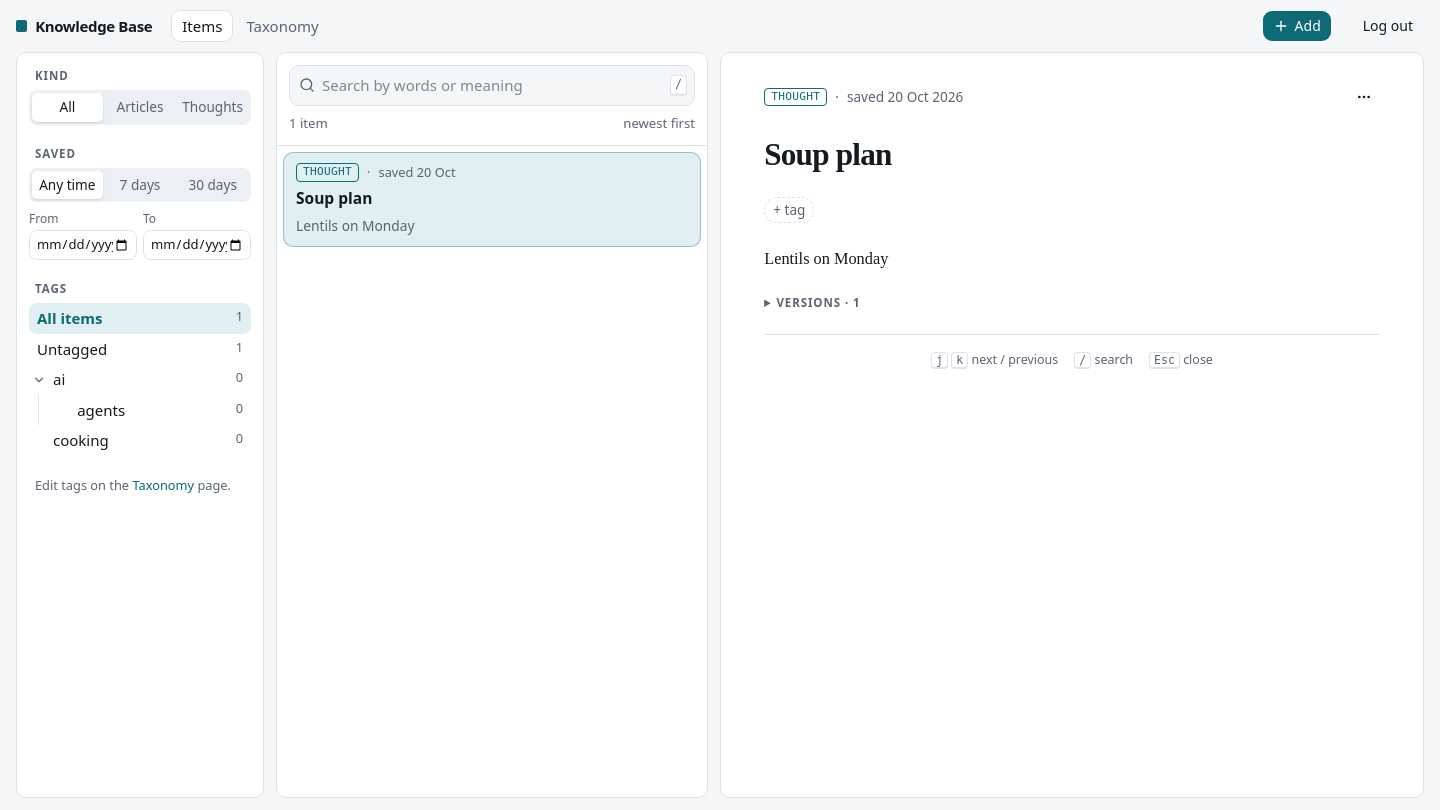
Test: Edit Thought starts from what is shown and saves a new version
The width and height of the screenshot is (1440, 810).
Expected: the element named "Selected item" is shown, [720, 52, 1424, 798]
Click the button named "More actions": coordinates (1364, 97) [1348, 81, 1380, 113]
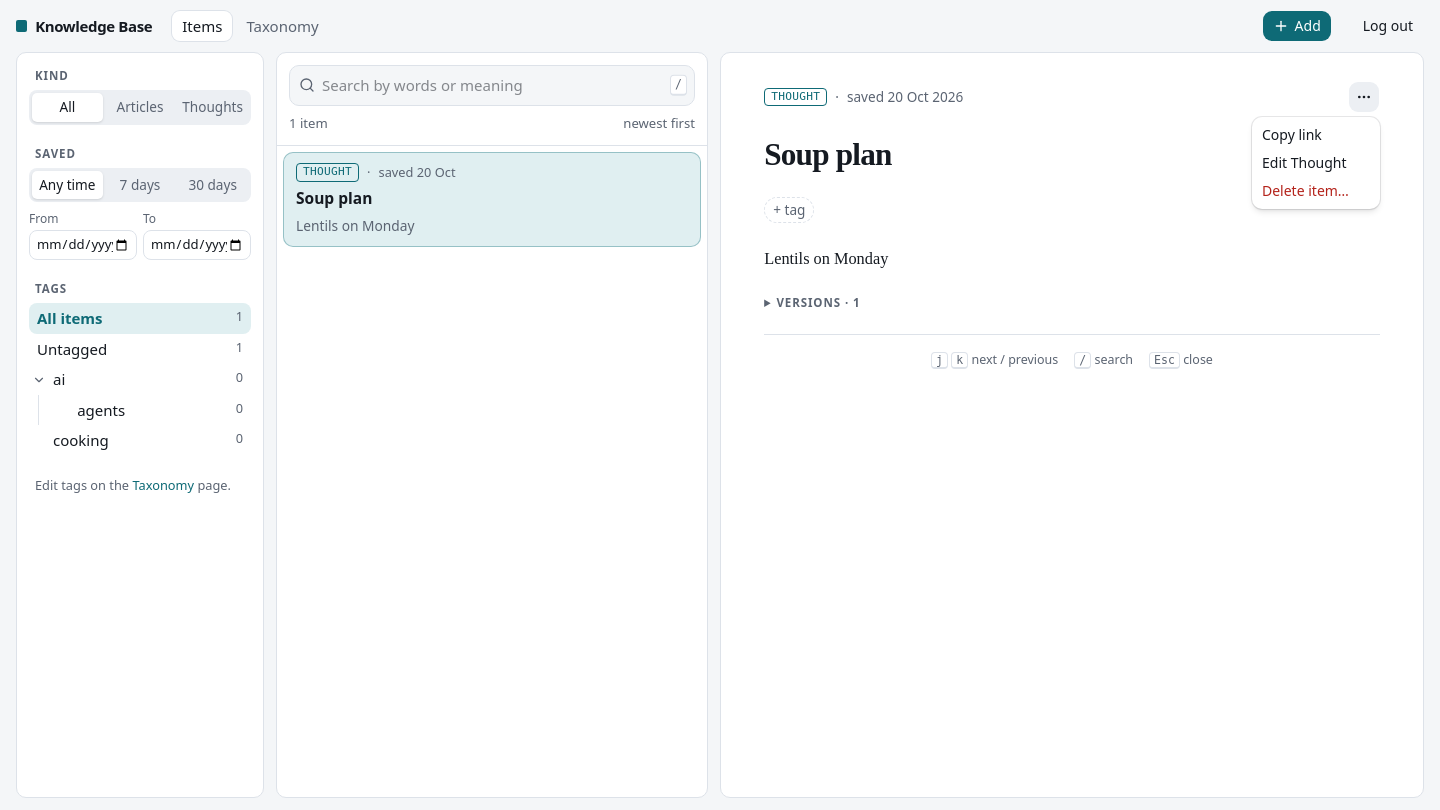
Click the menu item "Edit Thought": coordinates (1304, 162) [1262, 153, 1347, 172]
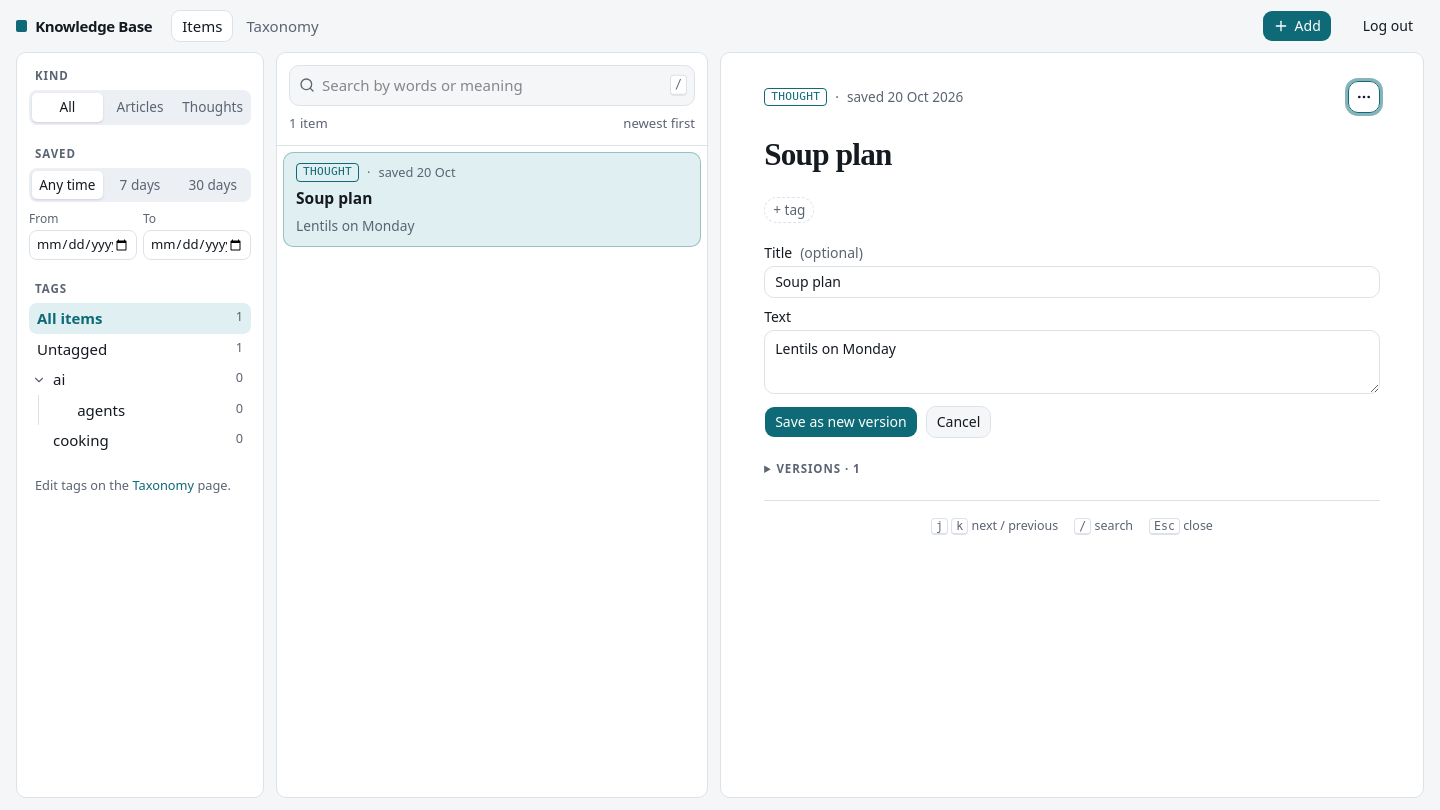
Expected: the field labelled "Title (optional)" holds "Soup plan", [764, 266, 1380, 298]
Expected: the text box labelled "Text" holds "Lentils on Monday"
Replace the text in the text box labelled "Text" with "Lentils on Tuesday": coordinates (1072, 362) [764, 330, 1380, 394]
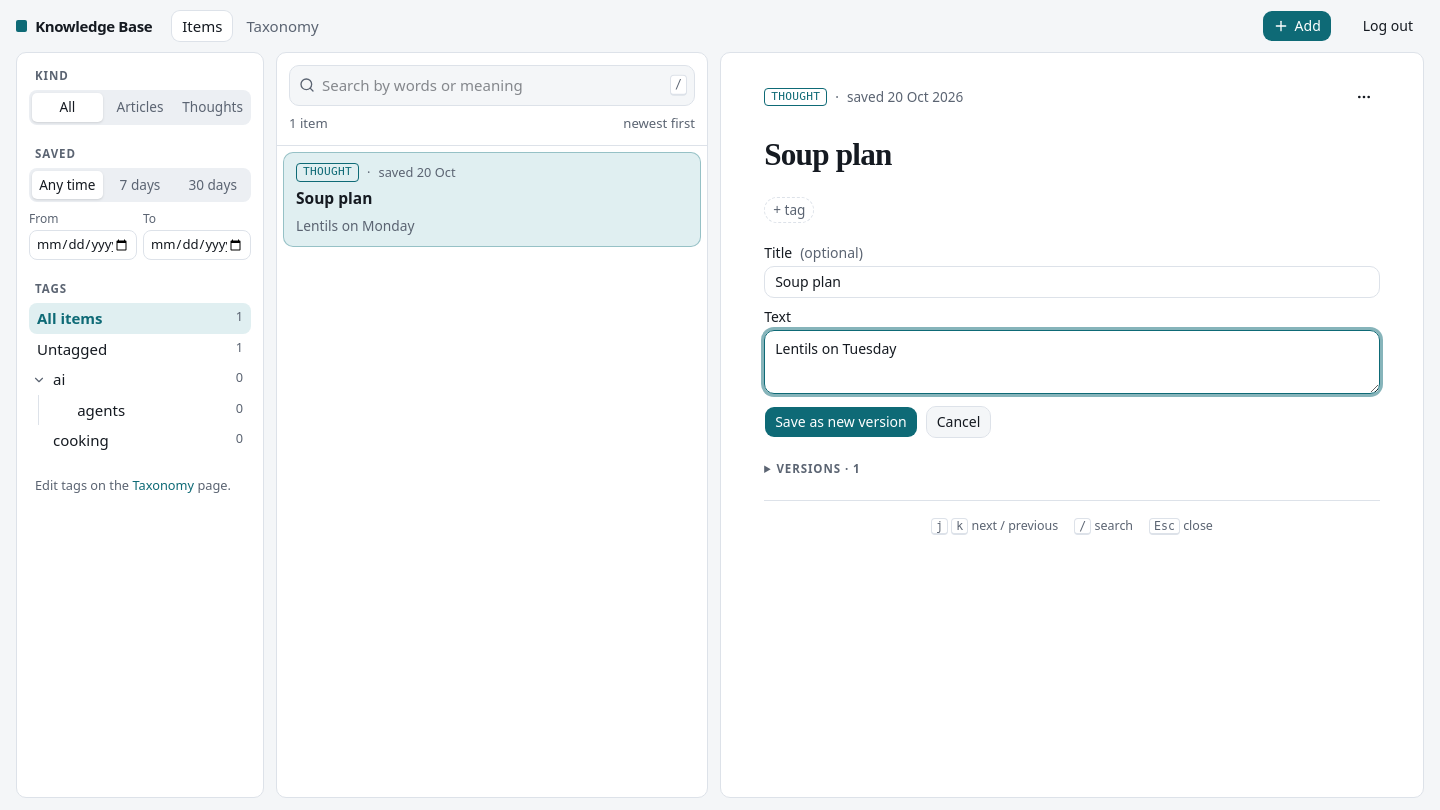
Click the button "Save as new version": coordinates (841, 422) [764, 406, 918, 438]
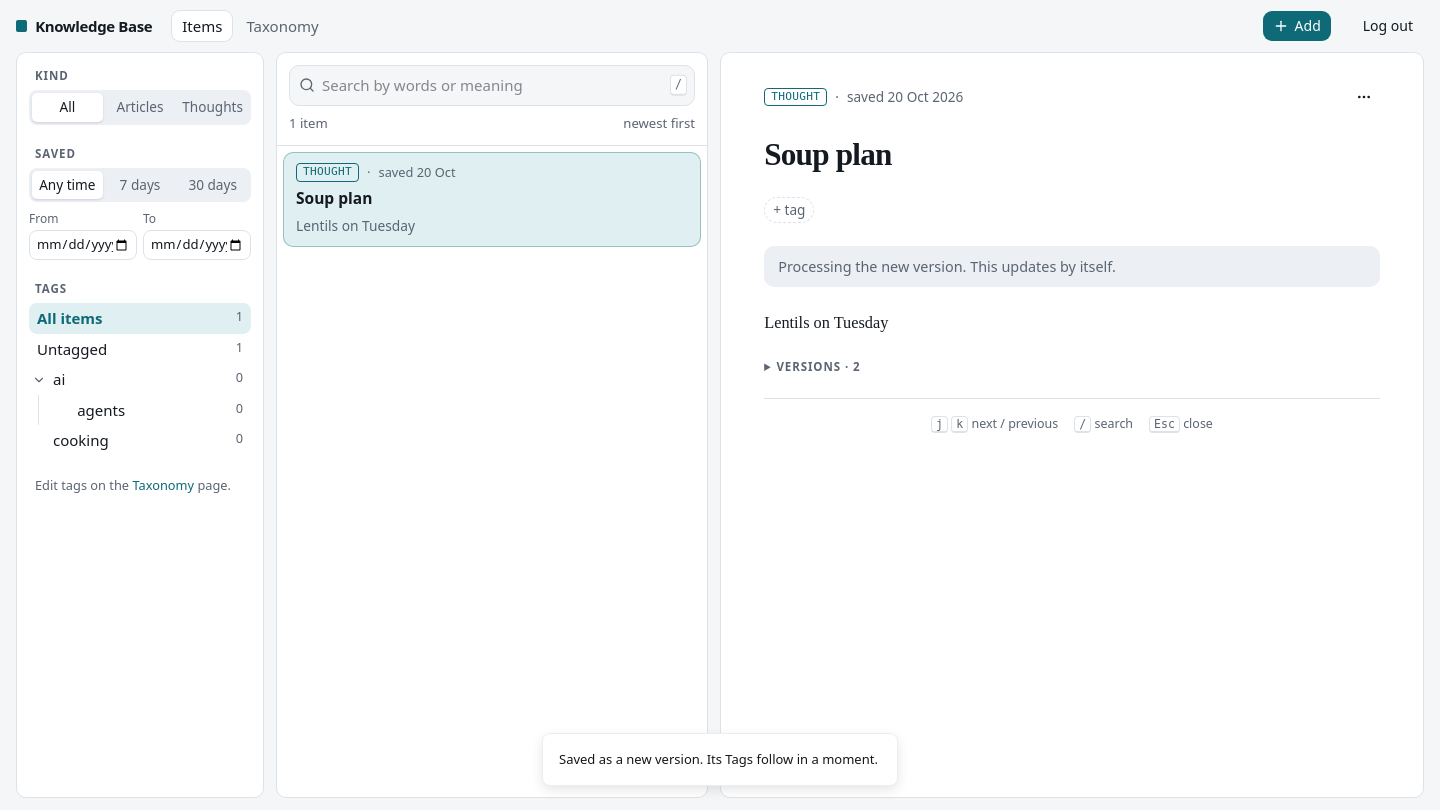
Expected: the menu item "Edit Thought" is not shown
Expected: the text "Lentils on Tuesday" below "20 Oct 2026" is shown, [764, 313, 888, 332]
Expected: the message shows "Processing the new version.", [778, 257, 1116, 276]
